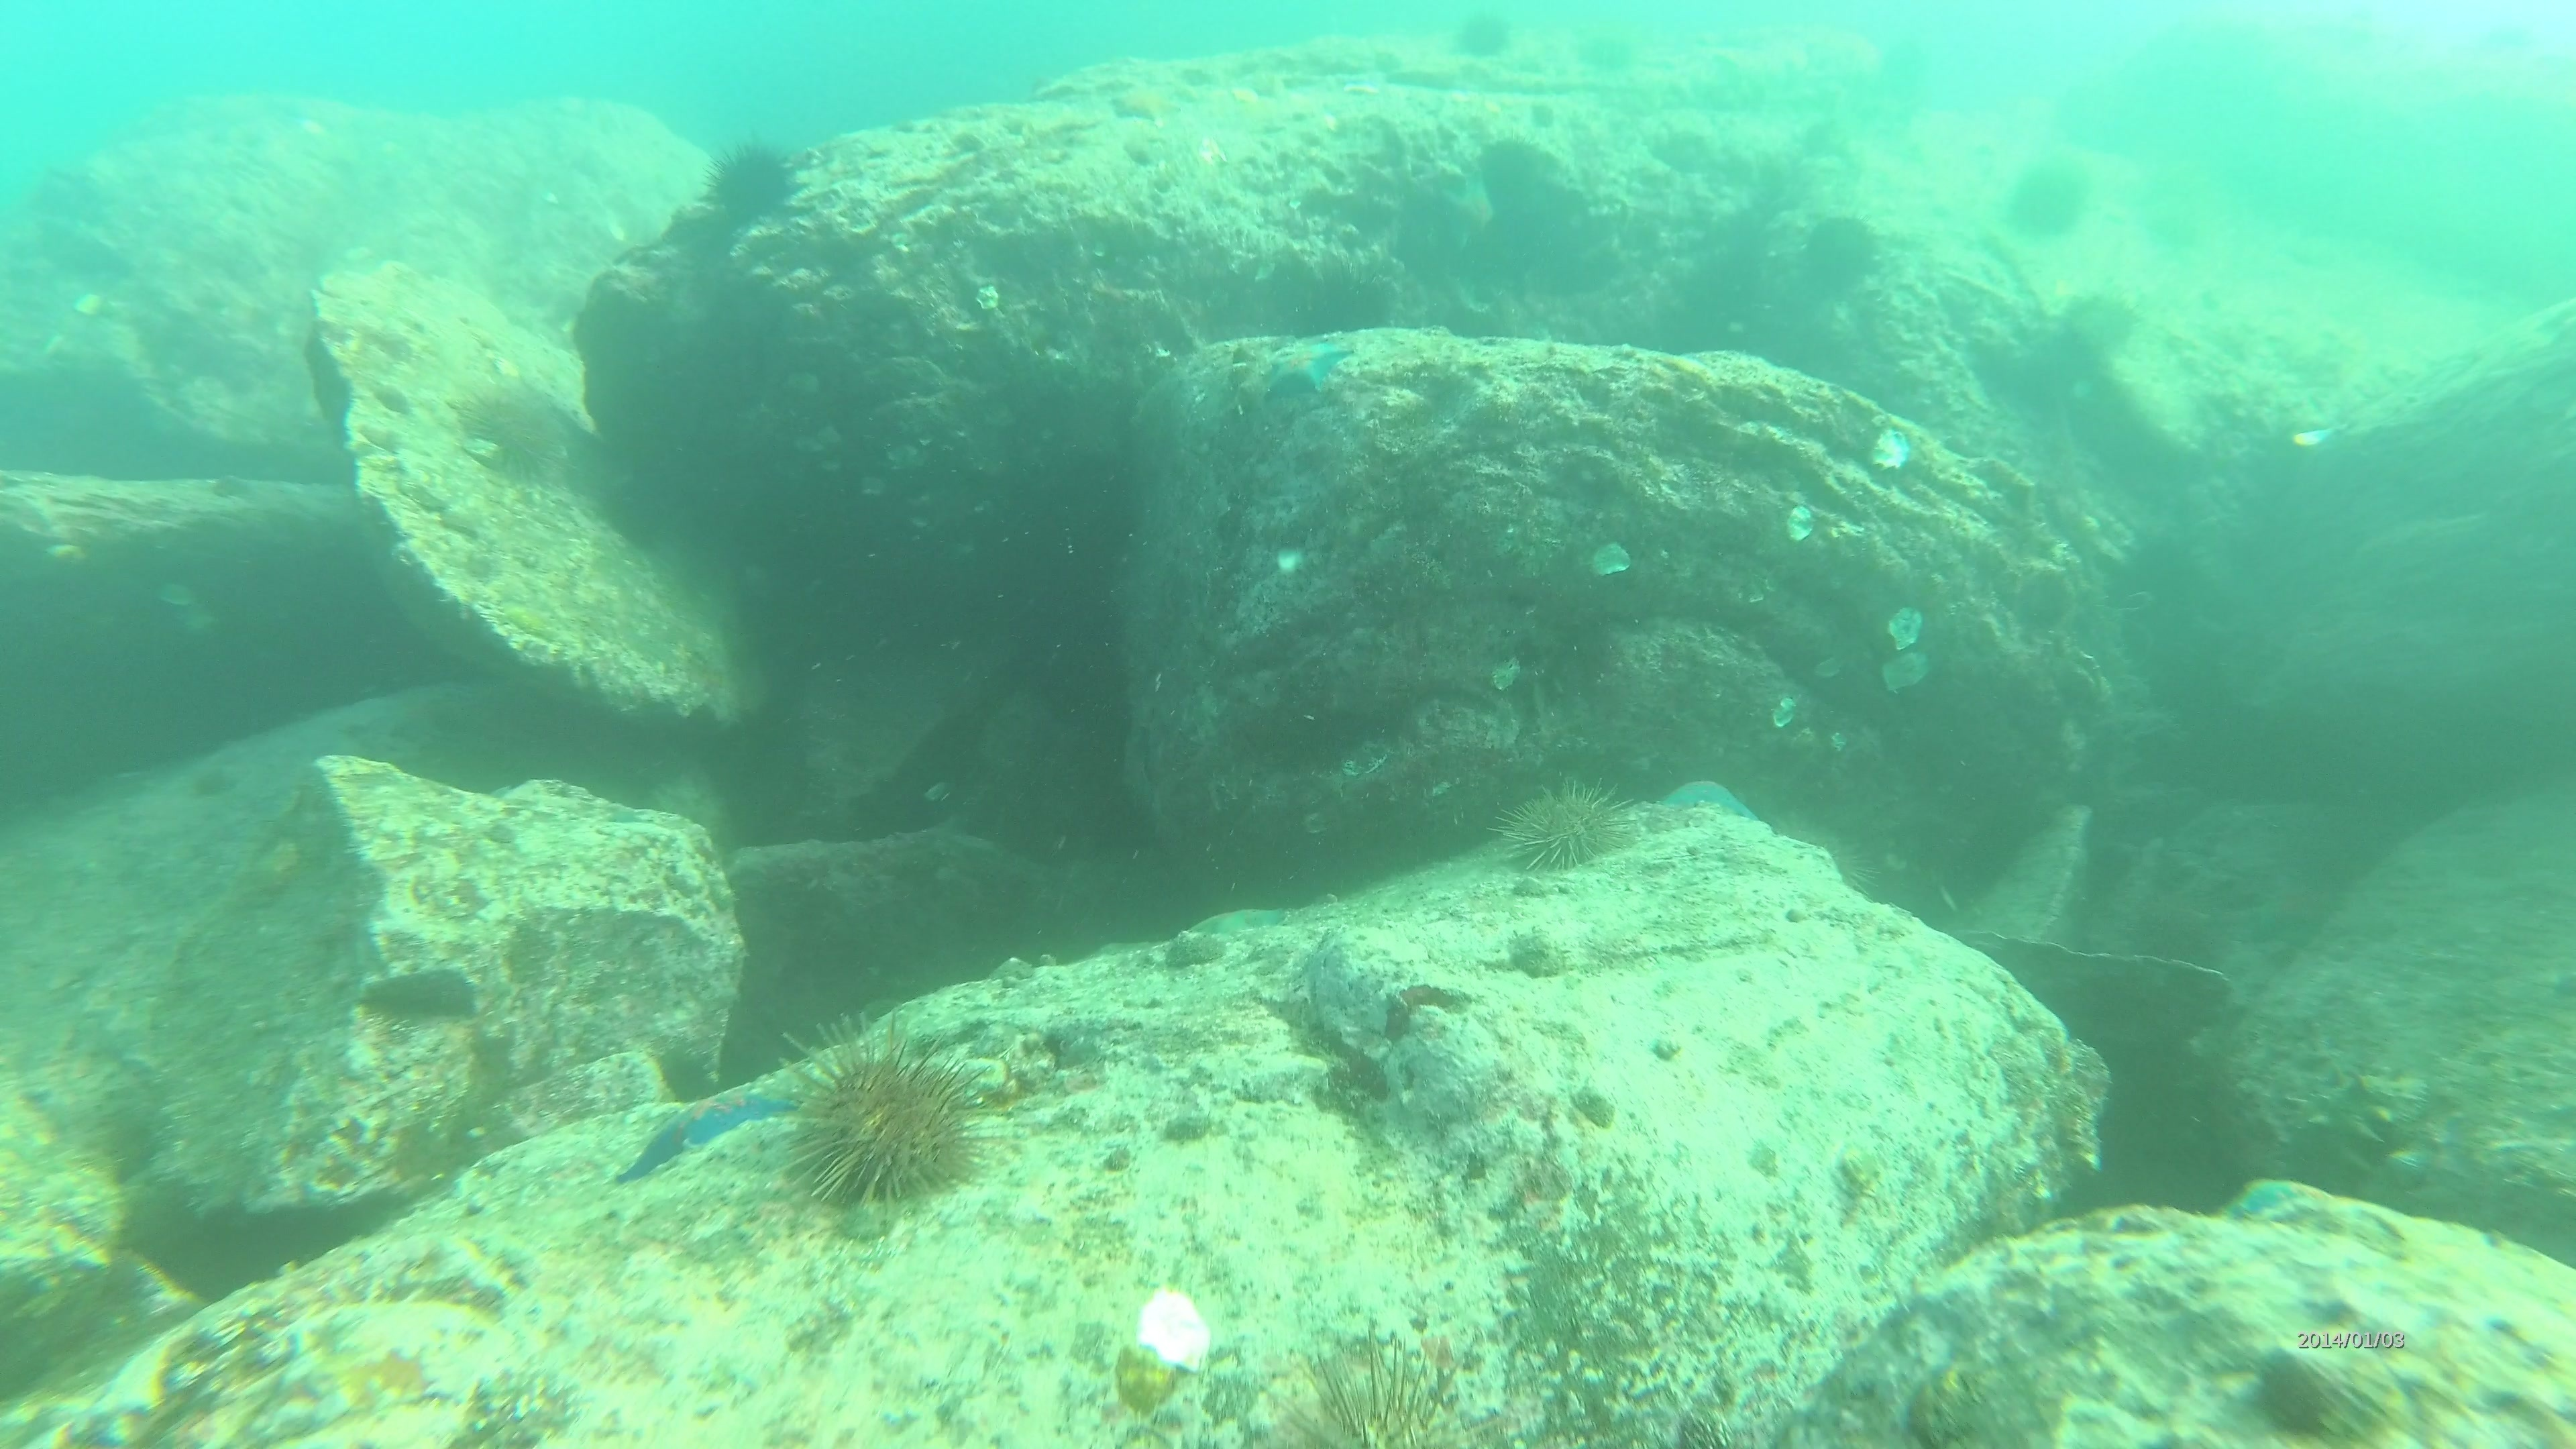echinus: (778, 1031, 991, 1219), (1263, 1345, 1488, 1444), (1491, 773, 1640, 885), (455, 377, 579, 490), (699, 134, 807, 235), (1790, 205, 1888, 308), (1999, 156, 2095, 249), (2052, 283, 2144, 372)
starfish: (610, 1072, 798, 1187), (1251, 327, 1361, 409), (1651, 771, 1766, 832), (1447, 170, 1497, 249), (1113, 78, 1180, 120)
